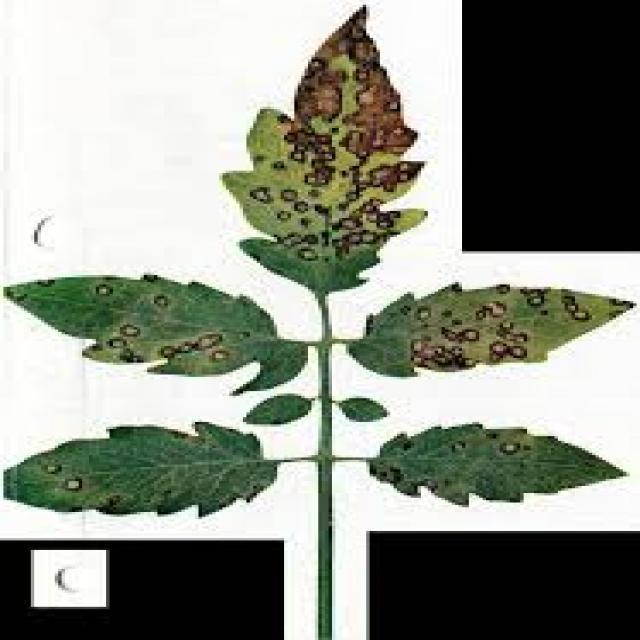Septoria: (234, 26, 416, 278), (18, 268, 236, 378), (362, 288, 619, 380), (381, 422, 525, 496), (9, 453, 130, 513)
